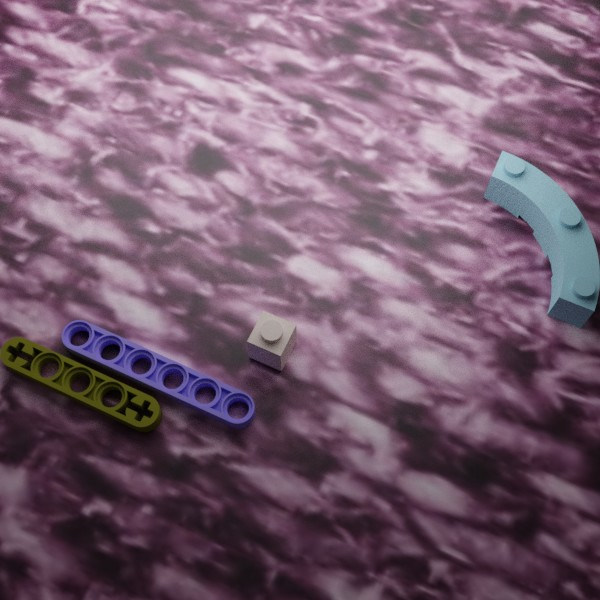lego: (61, 320, 255, 428), (483, 150, 599, 328), (0, 336, 162, 432), (247, 310, 296, 371)
